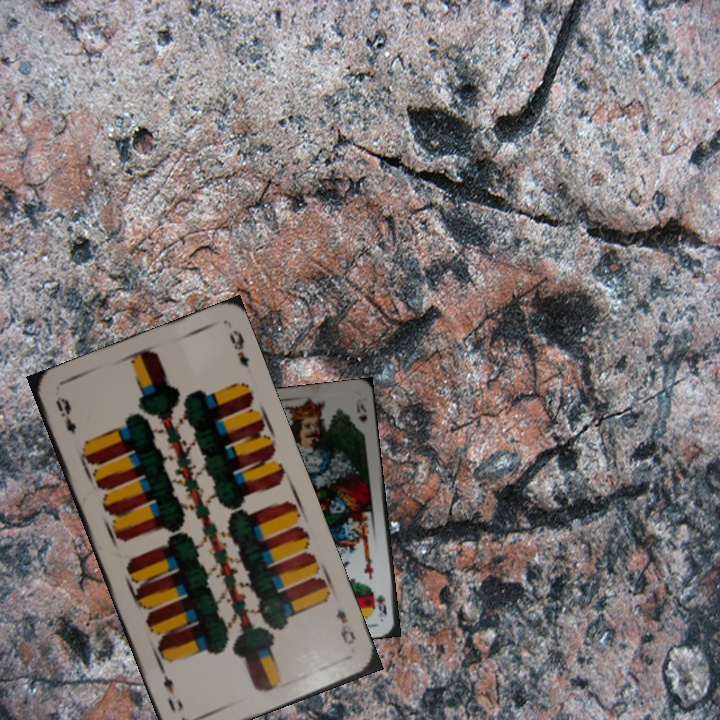E9: (51, 392, 79, 436), (331, 606, 359, 648)
SK: (372, 591, 389, 620)
